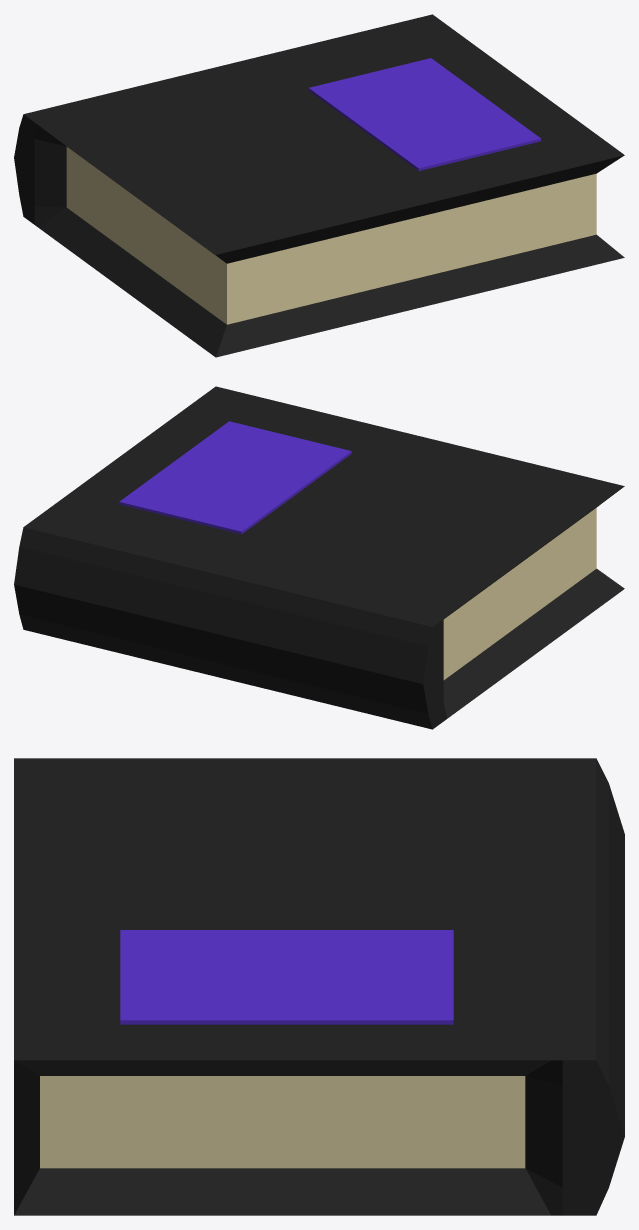
File: purple-book.fbx
3 views of the same model, one above another, from view 1: azimuth 30°, elevation 25°; view 2: azimuth 150°, elevation 25°; view 3: azimuth 270°, elevation 25° (orthographic). The views are drawn at different scales.
Visible parts, largest first — view 1: Cube; view 2: Cube; view 3: Cube.
Part boxes in pixels (box(x1,y1,x2,y2)): Cube: box(14, 14, 624, 357); Cube: box(14, 386, 624, 729); Cube: box(14, 758, 624, 1215).
Bounding box in the file's own units: 200 × 49.19 × 171.
